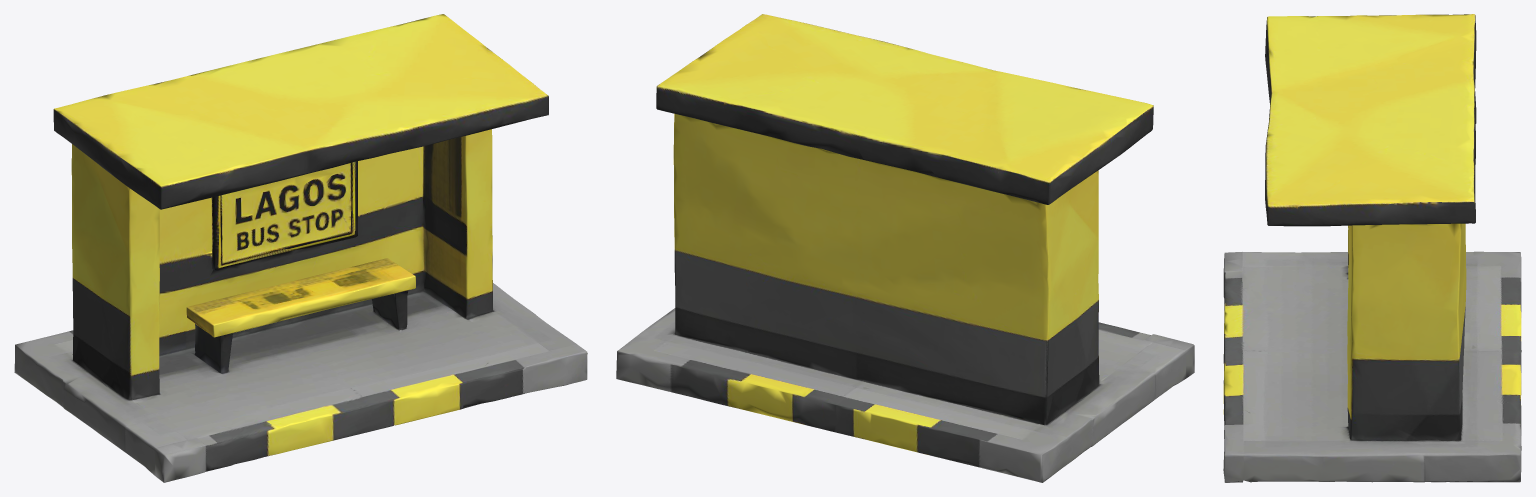
Rendered from lagos bus stop.fbx.
3 renders of one model, left to right at view 1: azimuth 30°, elevation 25°; view 2: azimuth 150°, elevation 25°; view 3: azimuth 270°, elevation 25°, orthographic. The views are drawn at different scales.
Visible parts, largest first — view 1: tripo_node_d7c85503; view 2: tripo_node_d7c85503; view 3: tripo_node_d7c85503.
Part boxes in pixels (x1,y1,x2,y2): tripo_node_d7c85503: (14,14,587,482); tripo_node_d7c85503: (616,14,1194,482); tripo_node_d7c85503: (1223,14,1521,482).
Size of the model in its own units: 1 by 0.6289 by 0.6175.
